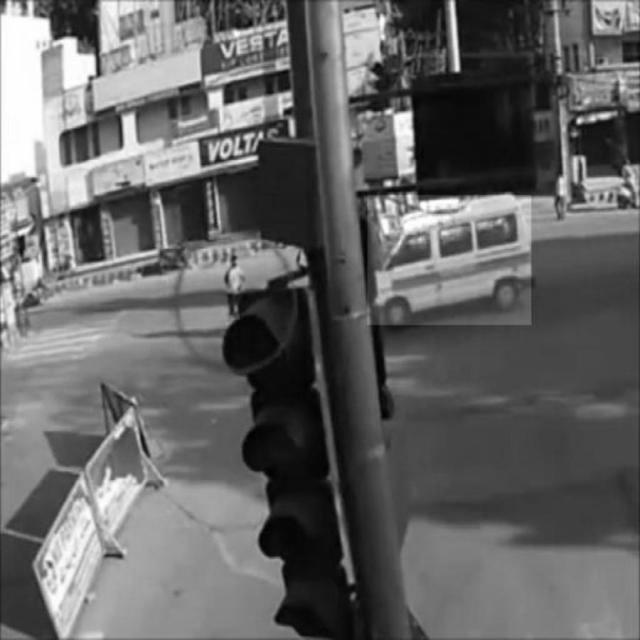vehicle: (368, 196, 532, 326)
